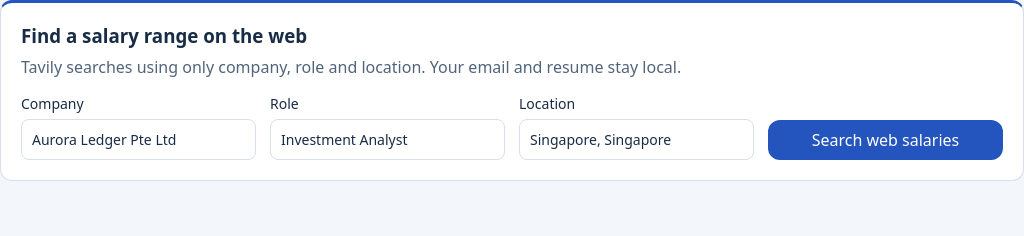
Test: keeps existing research when provider setup is missing
Click the button "Search web salaries" at x=886, y=140, box top-left (768, 120), bottom-right (1003, 160)
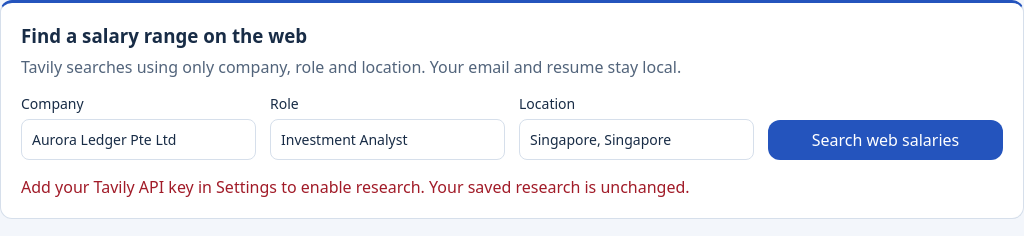
Expected: the message shows "Tavily API key in Settings", top-left (21, 176), bottom-right (690, 198)
